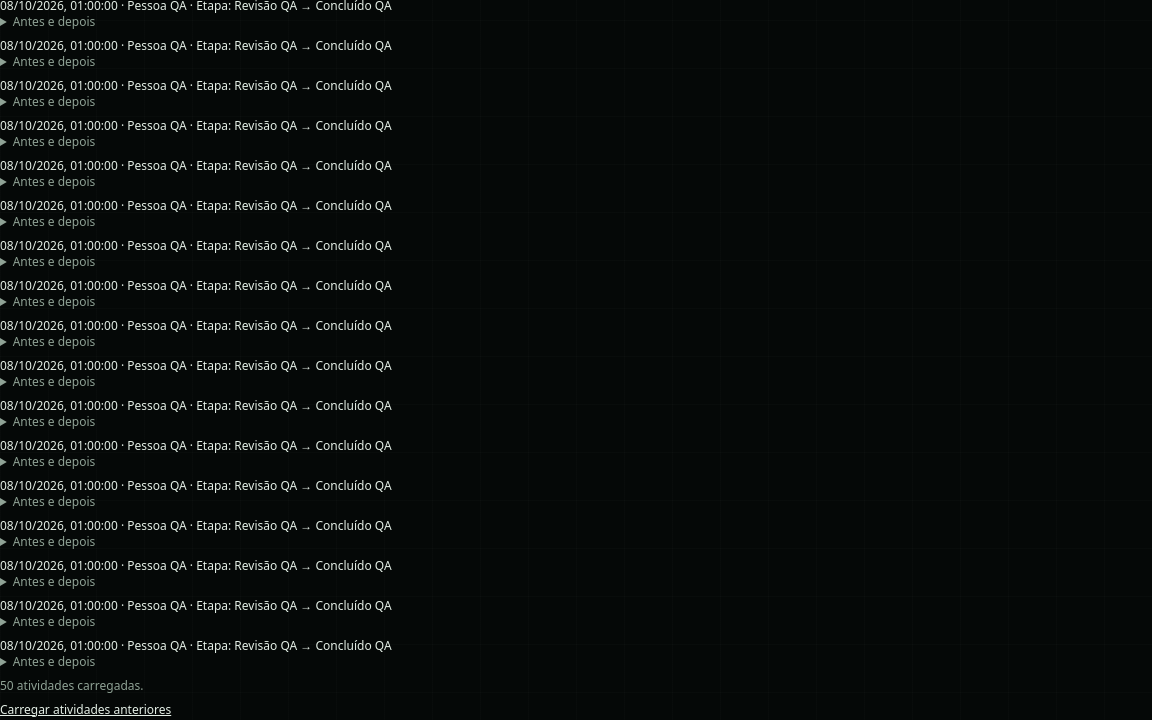
M02: atividade paginada da tarefa, API simulada › retira páginas privadas se a próxima troca orgId
(page scrolled)
Check: the text "50 atividades carregadas." is shown, box left=0, top=676, right=144, bottom=694
Click the button "Carregar atividades anteriores" at (86, 710), box left=0, top=702, right=171, bottom=718
(page scrolled)
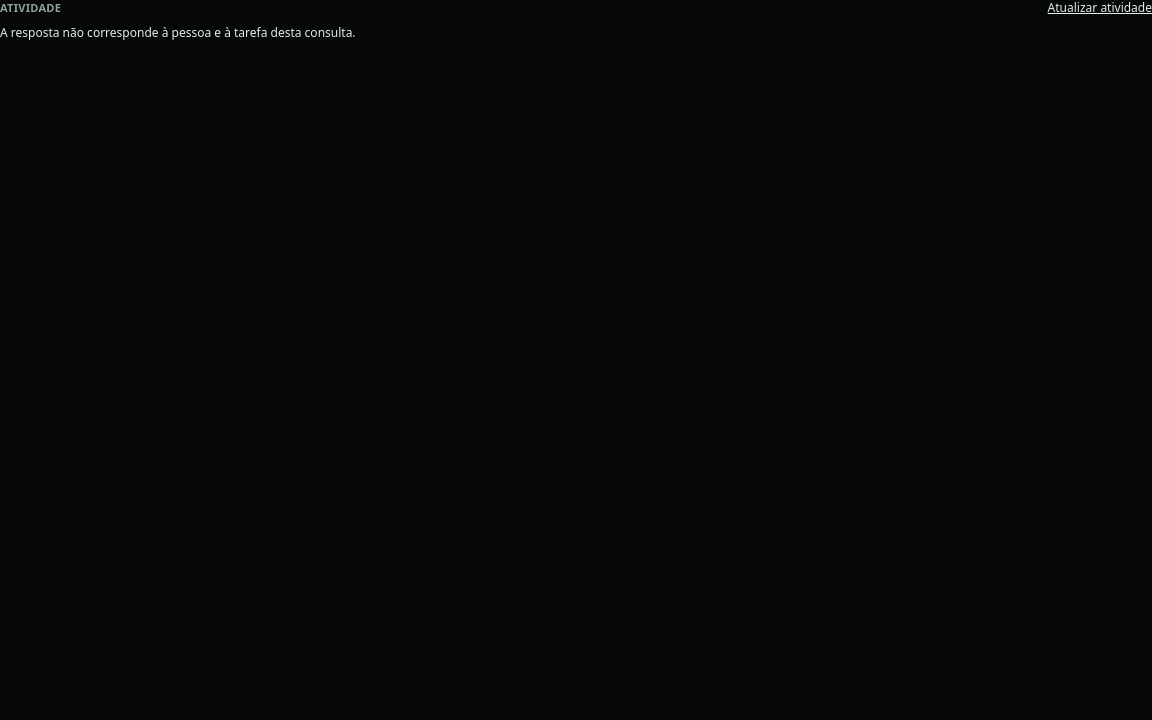
Check: the text "A resposta não corresponde à pessoa e à tarefa desta consulta." is shown, box left=0, top=24, right=356, bottom=40
